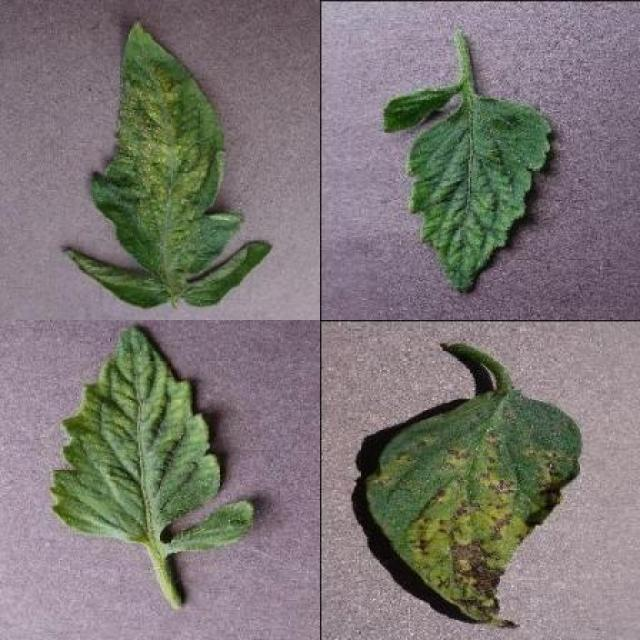Mosaic Virus: (51, 324, 222, 542), (407, 92, 550, 298), (380, 88, 457, 135)
Septoria: (367, 392, 583, 632)
Spider Mites: (62, 17, 272, 310)
